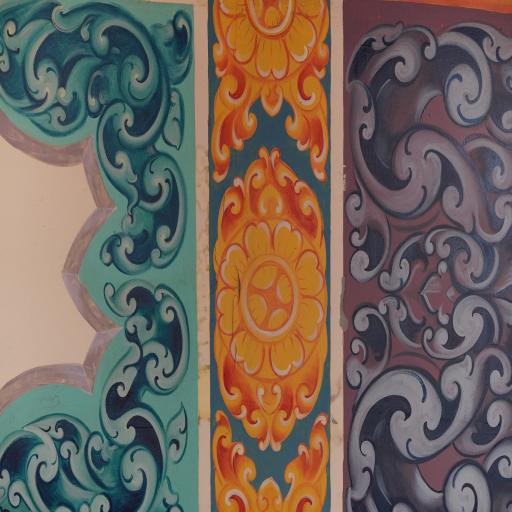hoa: (215, 220, 327, 378), (215, 0, 328, 81)
la: (0, 0, 197, 278), (346, 0, 511, 295), (0, 280, 195, 512), (345, 297, 512, 512), (215, 350, 329, 450), (220, 147, 322, 237), (282, 68, 336, 184), (212, 70, 258, 182), (279, 413, 330, 512), (212, 407, 259, 512)
